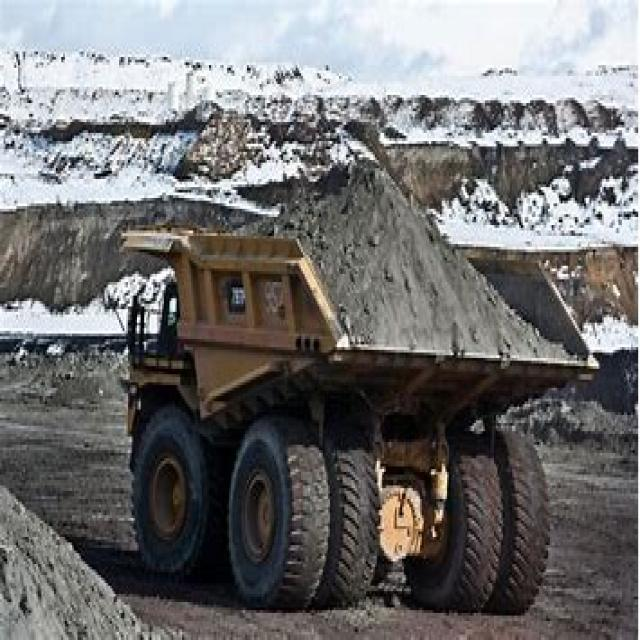dump_truck: (127, 149, 600, 608)
